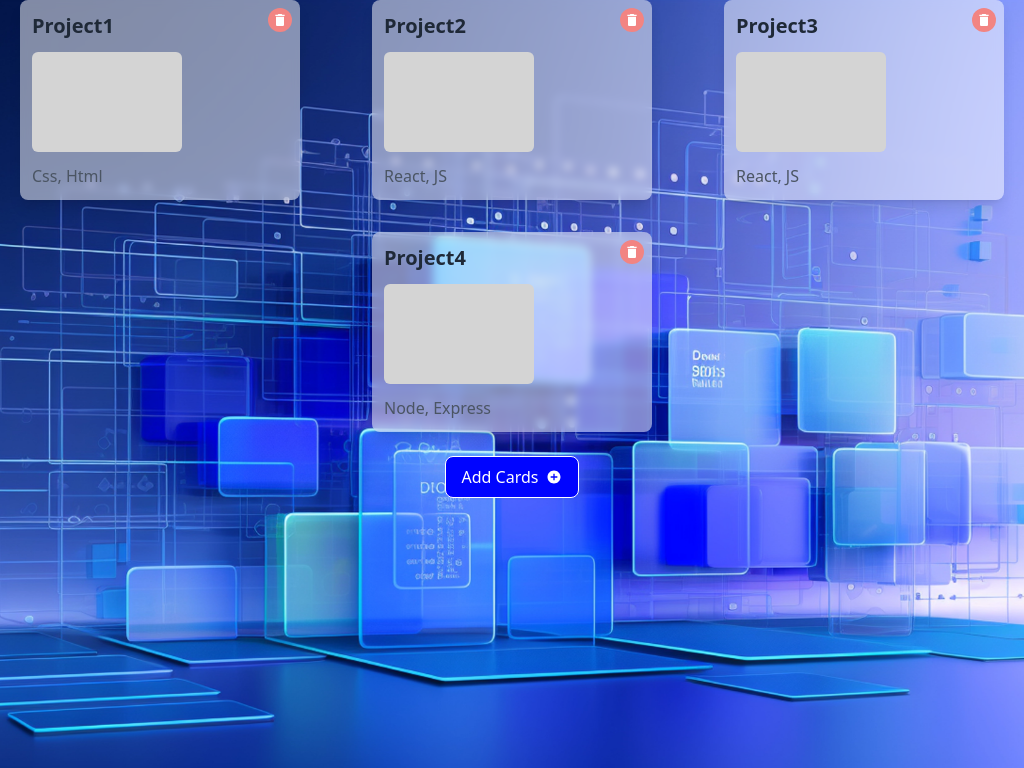
Scenario: MainContent Component › Successfully shows the CardForm component when the Add Cards button is clicked
Check: the field with placeholder "Project Name" is not shown
Click the button "Add Cards": (512, 477) 444,456 -> 580,498
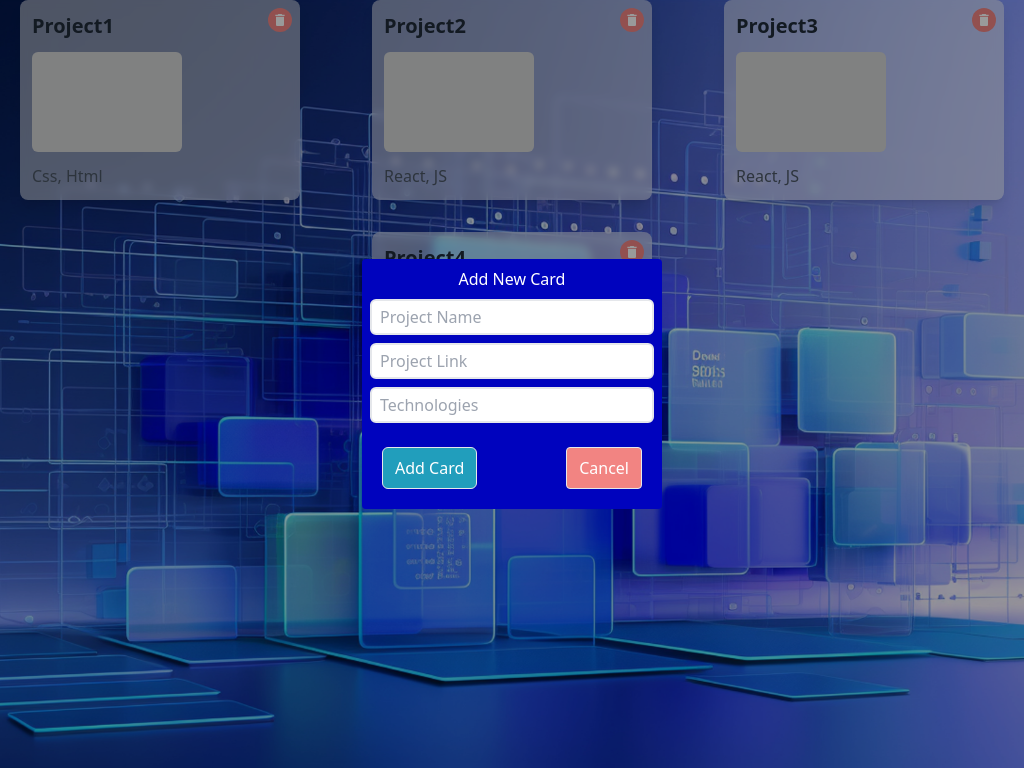
Check: the field with placeholder "Project Name" is shown, box 370,299 -> 654,335
